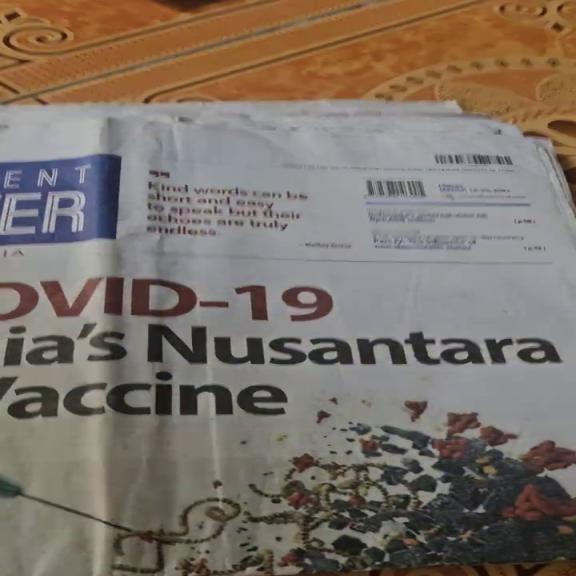Kertas: (4, 101, 570, 571)
